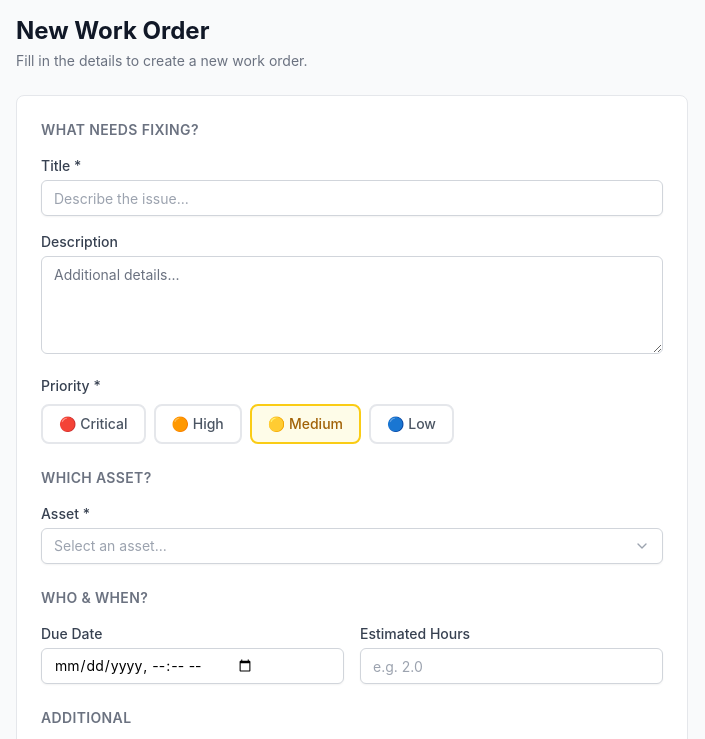
it: WorkOrderCreatePage › shows asset required error on submit without asset
This screenshot has width=705, height=739.
Type "Valid title here" into the field with placeholder "Describe the issue..." at (352, 198), box 41,180 -> 663,216
(page scrolled)
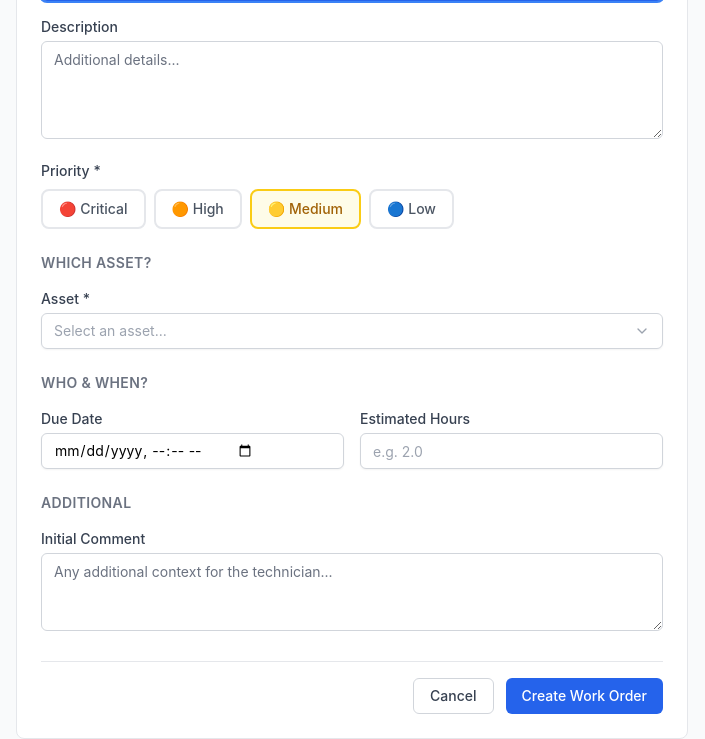
Click the button "Create Work Order" at (584, 696), box 506,678 -> 663,714
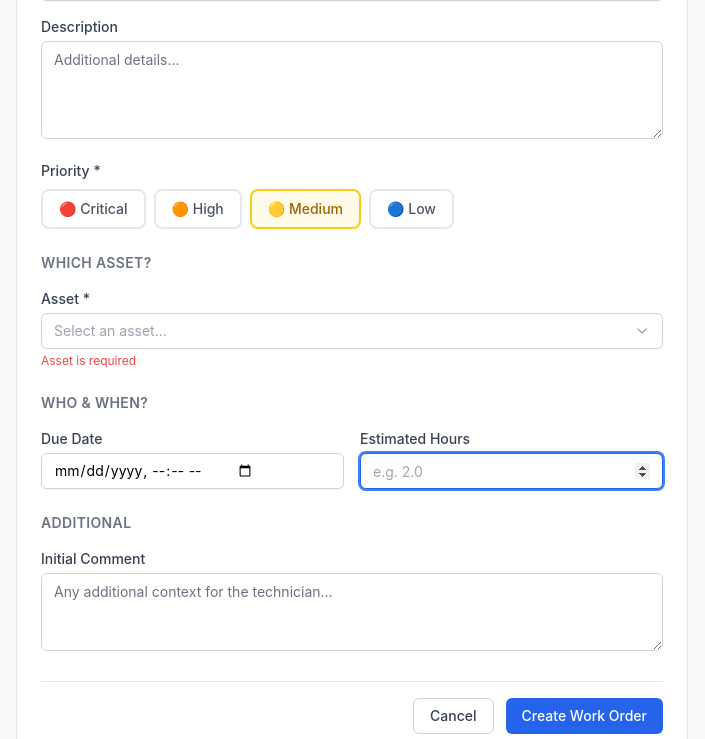
Expected: the text "Asset is required" is shown, 41,353 -> 136,368
